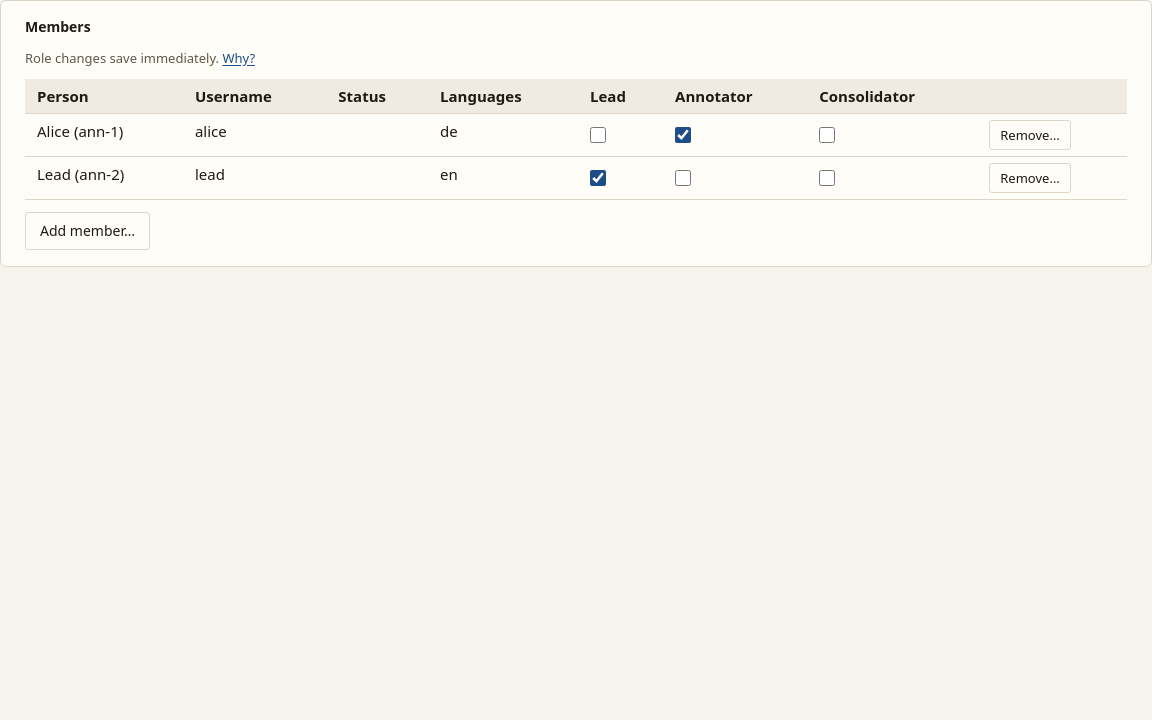
Test case: project members › shows LAST_LEAD inline without optimistically removing the role
Click the 4th checkbox named "lead: Lead" at coordinates (598, 178), box x1=590 y1=170 x2=606 y2=186
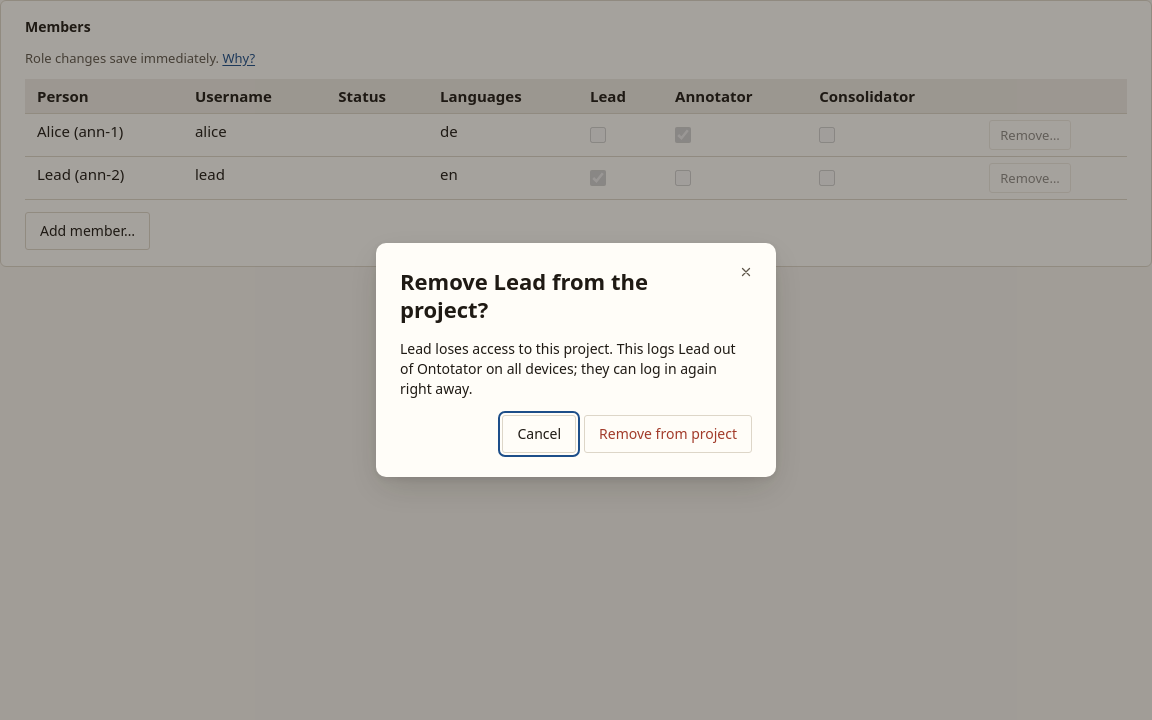
Click the button "Remove from project" at coordinates (668, 434), box x1=584 y1=415 x2=752 y2=453
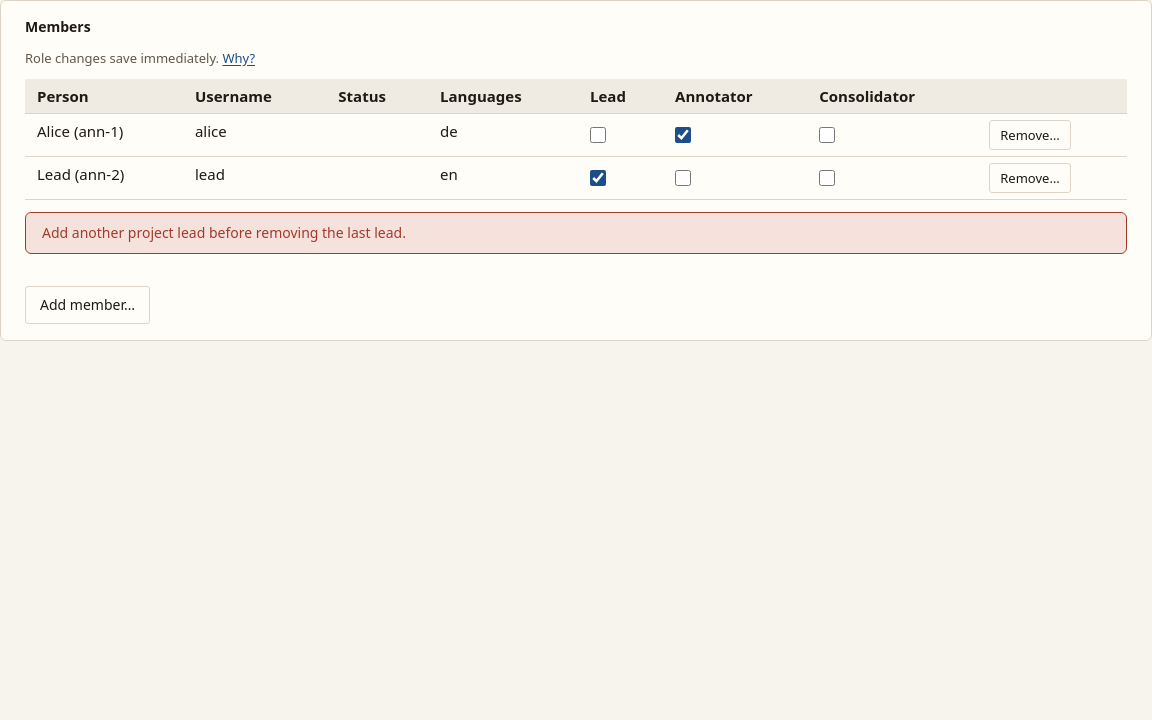
Expected: the 4th checkbox named "lead: Lead" is checked, x1=590 y1=170 x2=606 y2=186
Result: the message "Add another project lead before removing the last lead." is shown at x1=25 y1=212 x2=1127 y2=254
